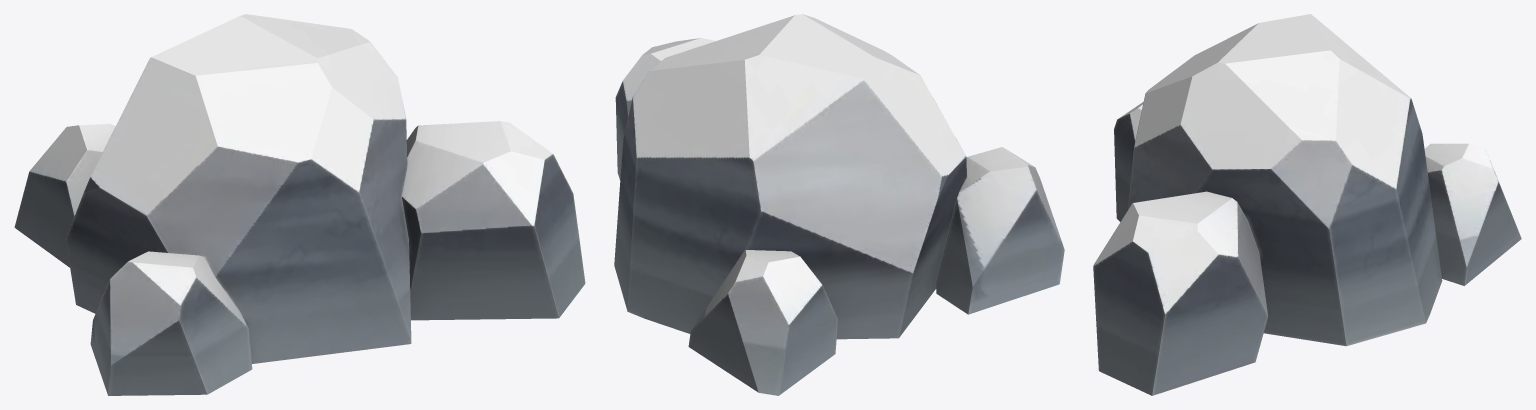
Rendered from rock_snow.glb.
3 views of the same model, side by side, from view 1: azimuth 30°, elevation 25°; view 2: azimuth 150°, elevation 25°; view 3: azimuth 270°, elevation 25° (orthographic). The views are drawn at different scales.
Parts seen in each view (by area): view 1: Static_Mesh; view 2: Static_Mesh; view 3: Static_Mesh.
Boxes of the visible parts, x1,y1,x2,y2 form: Static_Mesh: (14, 14, 585, 395); Static_Mesh: (614, 14, 1064, 395); Static_Mesh: (1093, 14, 1521, 395).
Bounding box in the file's own units: 2.3 × 1.19 × 1.96.
Materials: 1 (1 with a texture image).
